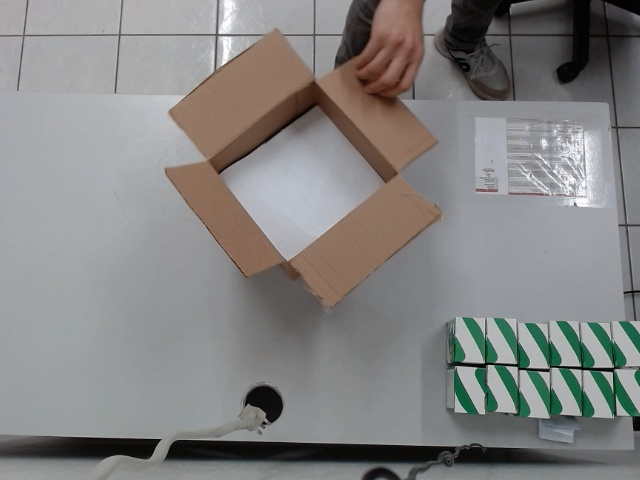caixa_principal: (163, 25, 445, 305)
